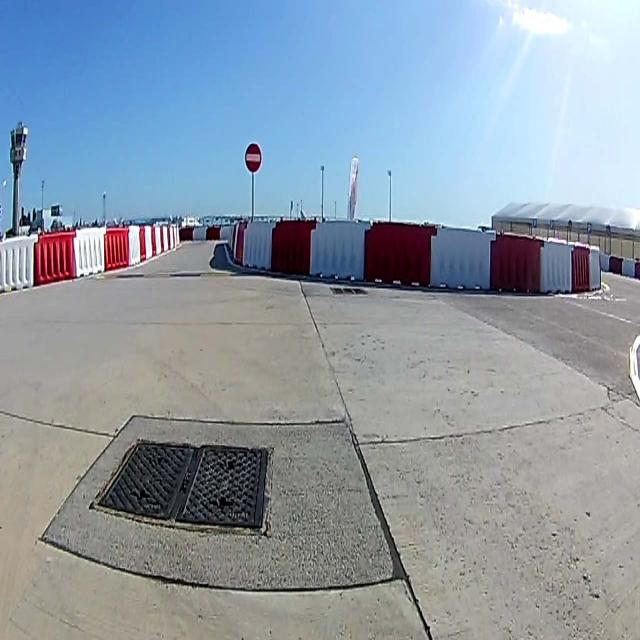girisyok: (245, 142, 262, 174)
